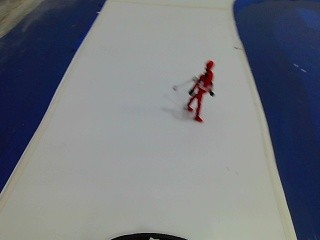pedestrian: (187, 56, 219, 129)
